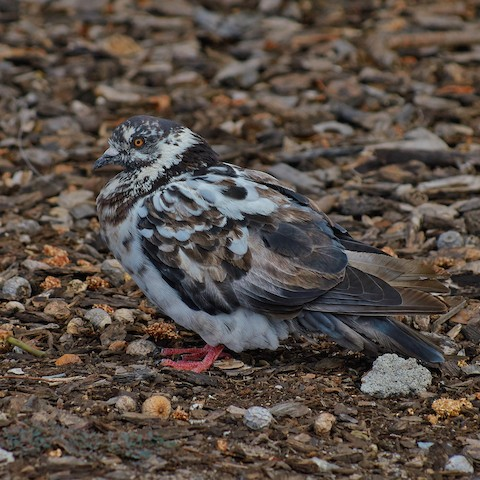pigeon: (84, 112, 456, 380)
